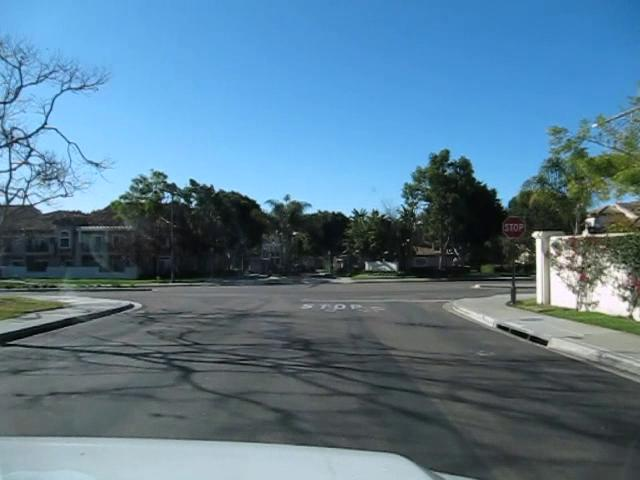stop: (501, 214, 526, 240)
